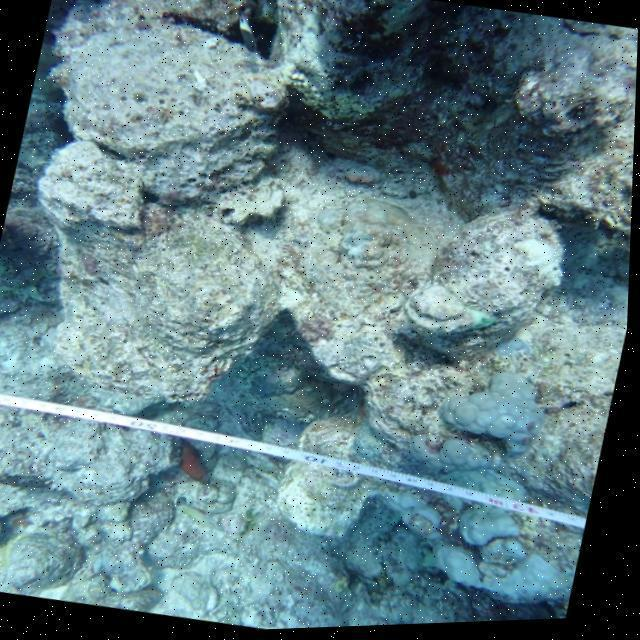Bleached Coral: (370, 452, 596, 628), (436, 364, 560, 481)
